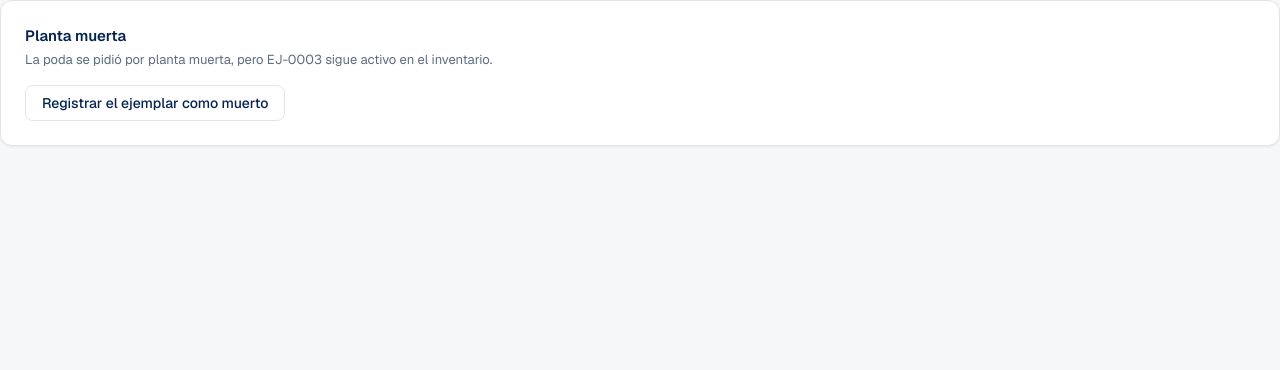
it: Planta muerta en la poda a demanda › propone registrar el ejemplar como muerto con la fecha de ejecución y la atención
Step 1. Click the button "Registrar el ejemplar como muerto" → (155, 103), box [25,85,286,121]
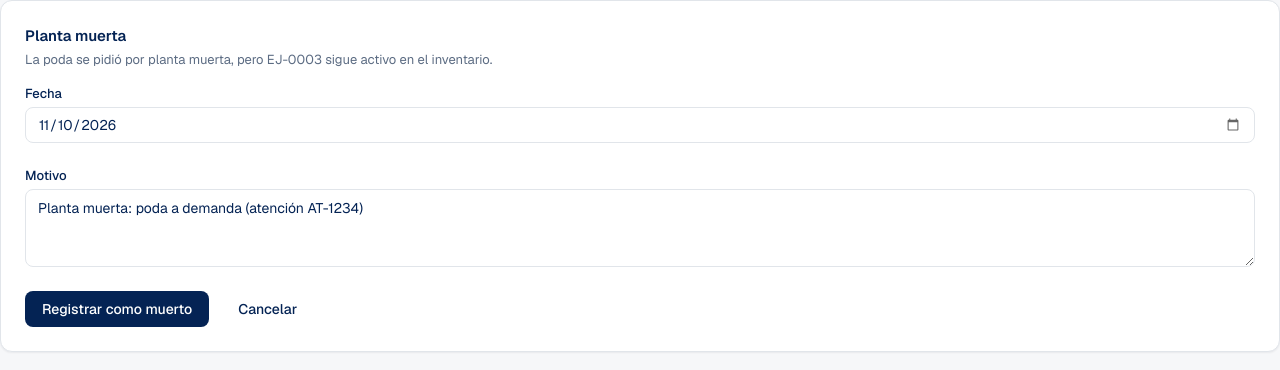
Result: the date field with id "fecha-planta-muerta" holds "2026-11-10" at [25,107,1255,143]
Step 2. Click the button "Registrar como muerto" → (117, 309), box [25,291,209,327]
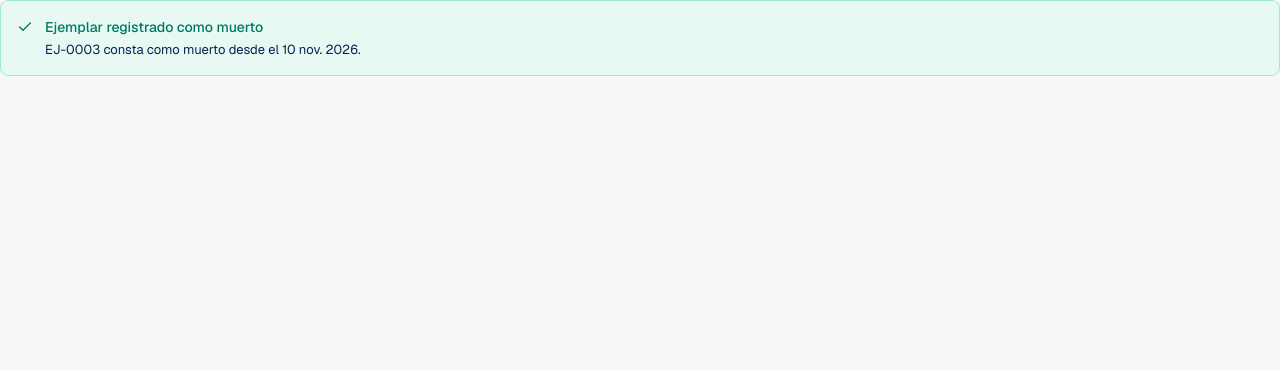
Result: the text "Ejemplar registrado como muerto" is shown at [45,18,263,36]
